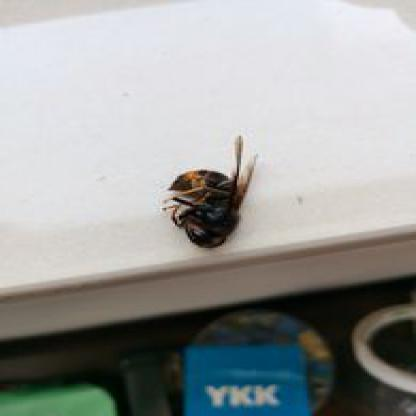Asian Hornet: (158, 134, 261, 250)
